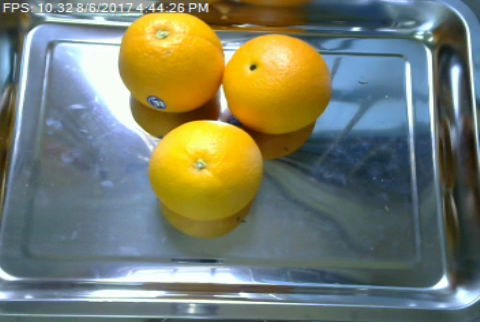Orange: (147, 119, 264, 221), (119, 11, 224, 113), (222, 33, 331, 131)
